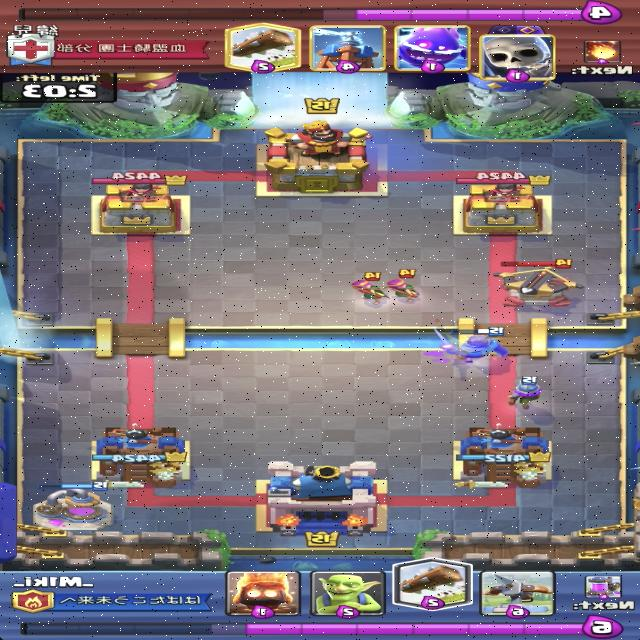Enemy-Archer: (351, 271, 396, 306), (386, 268, 424, 303)
Enemy-XBow: (490, 259, 584, 308)
Player-ElixirPump: (30, 481, 114, 532)
Player-Knight: (431, 327, 514, 364)
Player-Musketeer: (506, 374, 546, 411)
